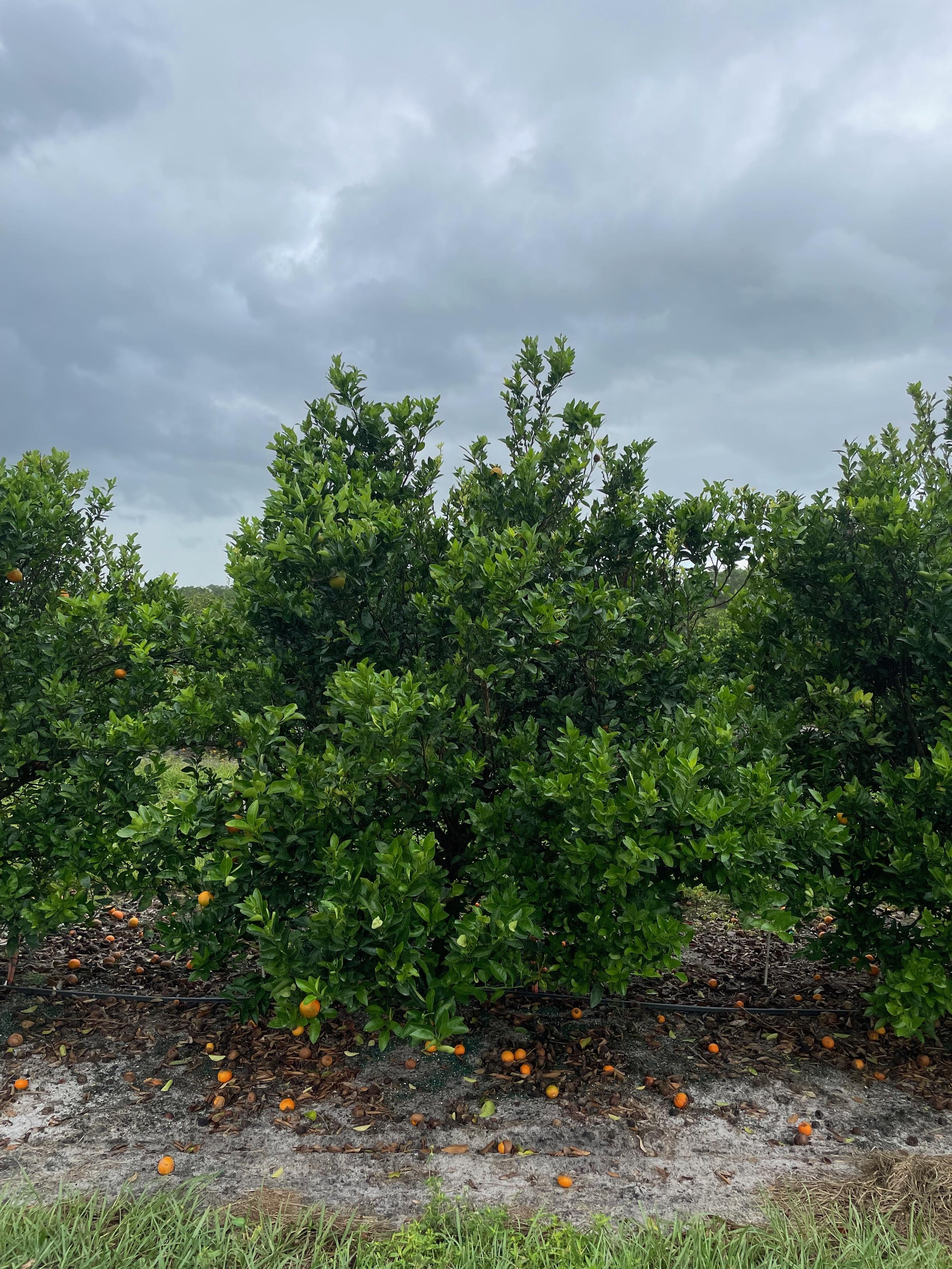fruit_on_ground: (297, 995, 323, 1019), (326, 570, 348, 591), (224, 813, 245, 834), (196, 888, 216, 909), (4, 565, 25, 584), (834, 808, 852, 827), (487, 465, 505, 482), (54, 588, 72, 603), (112, 666, 129, 681), (745, 683, 757, 695)
fruit_on_tree: (155, 1154, 176, 1176), (673, 1090, 690, 1108), (278, 1096, 296, 1113), (5, 1031, 24, 1047), (796, 1121, 813, 1137), (792, 1132, 810, 1147), (497, 1138, 513, 1154), (289, 1023, 306, 1038), (409, 1111, 426, 1126), (556, 1173, 573, 1188), (318, 1052, 334, 1067), (915, 1053, 931, 1068), (217, 1068, 233, 1083), (211, 1094, 227, 1108), (544, 1084, 560, 1098), (14, 1076, 30, 1090), (297, 1046, 312, 1060), (403, 1056, 417, 1070), (569, 1005, 583, 1019), (821, 1035, 835, 1049), (65, 972, 79, 985), (203, 1040, 217, 1053), (424, 1040, 438, 1053), (500, 1048, 513, 1062), (111, 909, 126, 921), (875, 1024, 888, 1037), (515, 1048, 528, 1061), (453, 1043, 466, 1056), (866, 1028, 880, 1040), (852, 1058, 866, 1070), (67, 957, 81, 969), (159, 959, 174, 970), (184, 957, 197, 969), (643, 1075, 656, 1087), (867, 963, 880, 975), (707, 975, 719, 988), (246, 1090, 258, 1103), (227, 1047, 239, 1060), (707, 1042, 720, 1054), (127, 916, 140, 928), (520, 1062, 532, 1075), (655, 1012, 667, 1024), (822, 913, 834, 924), (110, 950, 122, 961), (602, 1063, 615, 1073), (103, 904, 116, 914), (67, 927, 79, 937), (133, 964, 145, 974), (102, 956, 114, 966), (149, 953, 161, 963), (733, 998, 745, 1008), (104, 933, 116, 943), (848, 954, 859, 964), (864, 951, 875, 961), (812, 972, 822, 981), (793, 993, 803, 1002), (812, 991, 822, 1000)
